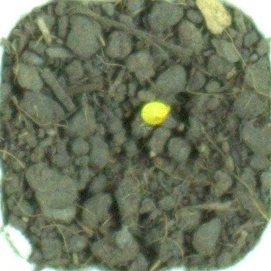chilli seed: (139, 100, 172, 126)
